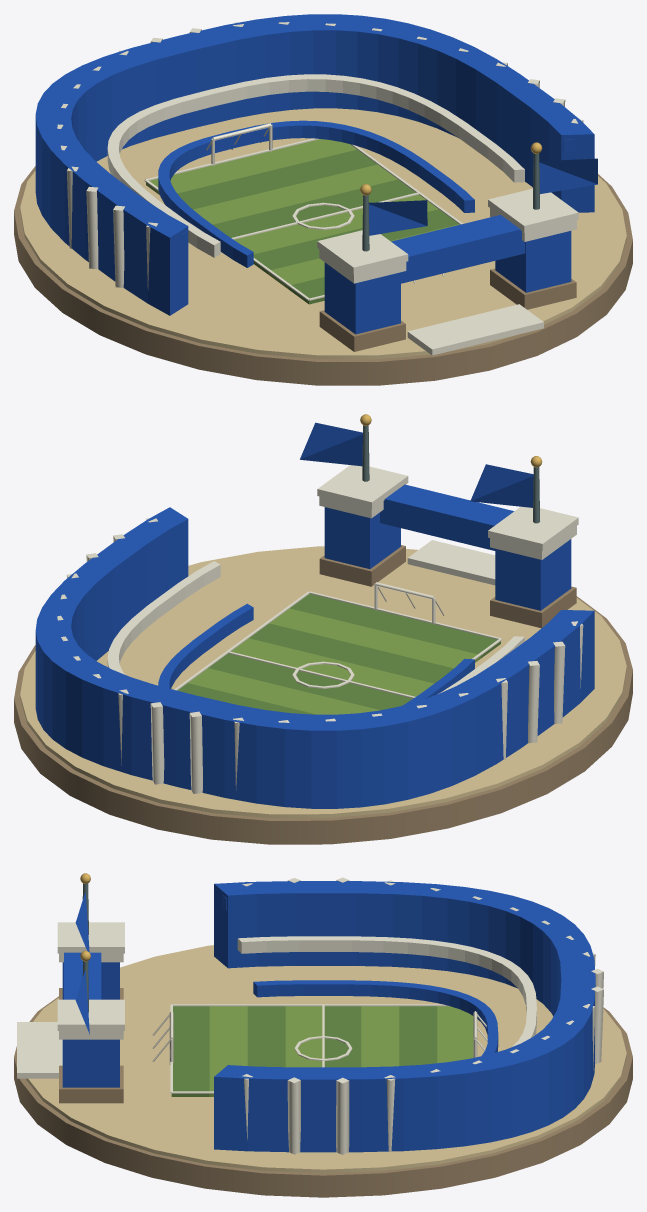
File: main-stadium-lv1.glb
3 renders of one model, top to bottom at view 1: azimuth 30°, elevation 25°; view 2: azimuth 150°, elevation 25°; view 3: azimuth 270°, elevation 25°, orthographic. The views are drawn at different scales.
Visible parts, largest first — view 1: stadium_shell_royal, foundation_sand, foundation_stoneDark, pitch_grassLight, seating_white, pitch_grass, seating_royal, entrance_pylons_royal, entrance_bridge_royal, entrance_pylons_roof_white, entrance_steps_white, flags_royal (+6 smaller); view 2: stadium_shell_royal, foundation_sand, foundation_stoneDark, pitch_grass, pitch_grassLight, entrance_pylons_royal, facade_ribs_white, entrance_pylons_roof_white, entrance_bridge_royal, flags_royal, seating_white, entrance_pylons_stoneDark (+5 smaller); view 3: stadium_shell_royal, foundation_sand, foundation_stoneDark, pitch_grass, pitch_grassLight, seating_white, seating_royal, facade_ribs_white, entrance_pylons_roof_white, entrance_pylons_royal, entrance_steps_white, pitch_lines_white (+5 smaller).
Boxes of the visible parts, x1=… form: stadium_shell_royal: x1=35, y1=14, x2=594, y2=315; foundation_sand: x1=20, y1=108, x2=626, y2=359; foundation_stoneDark: x1=14, y1=166, x2=632, y2=385; pitch_grassLight: x1=146, y1=139, x2=459, y2=289; seating_white: x1=107, y1=74, x2=524, y2=257; pitch_grass: x1=177, y1=149, x2=458, y2=304; seating_royal: x1=158, y1=120, x2=574, y2=267; entrance_pylons_royal: x1=324, y1=231, x2=571, y2=334; entrance_bridge_royal: x1=391, y1=215, x2=525, y2=283; entrance_pylons_roof_white: x1=317, y1=188, x2=578, y2=274; entrance_steps_white: x1=407, y1=304, x2=543, y2=355; flags_royal: x1=369, y1=158, x2=597, y2=235; stadium_shell_royal: x1=35, y1=507, x2=594, y2=808; foundation_sand: x1=20, y1=546, x2=626, y2=818; foundation_stoneDark: x1=14, y1=596, x2=632, y2=844; pitch_grass: x1=178, y1=594, x2=500, y2=714; pitch_grassLight: x1=188, y1=608, x2=480, y2=714; entrance_pylons_royal: x1=324, y1=507, x2=571, y2=610; facade_ribs_white: x1=57, y1=518, x2=583, y2=793; entrance_pylons_roof_white: x1=317, y1=465, x2=578, y2=550; entrance_bridge_royal: x1=380, y1=484, x2=514, y2=550; flags_royal: x1=300, y1=422, x2=533, y2=507; seating_white: x1=107, y1=561, x2=524, y2=693; entrance_pylons_stoneDark: x1=319, y1=545, x2=576, y2=628; stadium_shell_royal: x1=214, y1=881, x2=595, y2=1152; foundation_sand: x1=26, y1=945, x2=626, y2=1173; foundation_stoneDark: x1=14, y1=996, x2=632, y2=1197; pitch_grass: x1=171, y1=1006, x2=437, y2=1096; pitch_grassLight: x1=209, y1=1006, x2=473, y2=1096; seating_white: x1=237, y1=936, x2=536, y2=1046; seating_royal: x1=222, y1=895, x2=498, y2=1055; facade_ribs_white: x1=242, y1=877, x2=603, y2=1154; entrance_pylons_roof_white: x1=57, y1=922, x2=124, y2=1030; entrance_pylons_royal: x1=62, y1=962, x2=119, y2=1087; entrance_steps_white: x1=17, y1=1022, x2=62, y2=1078; pitch_lines_white: x1=170, y1=1004, x2=449, y2=1093.
Size of the model in its own units: 0.9074 by 0.2968 by 1.
